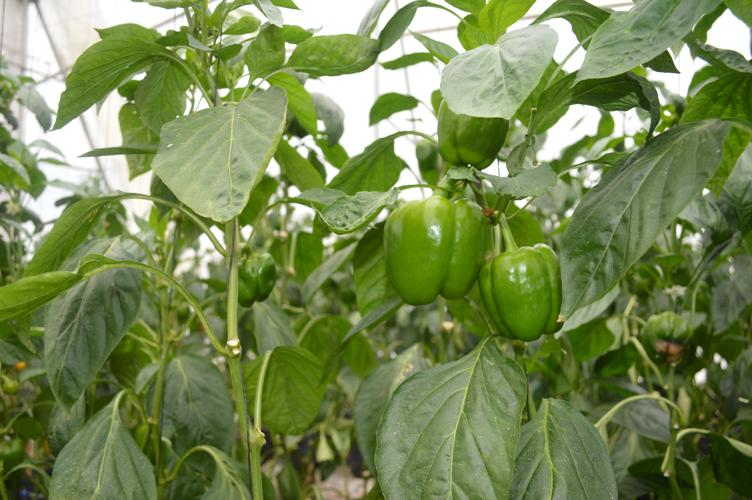BellPepper: (368, 184, 501, 313), (470, 240, 567, 357), (423, 81, 512, 170), (215, 239, 287, 318)
